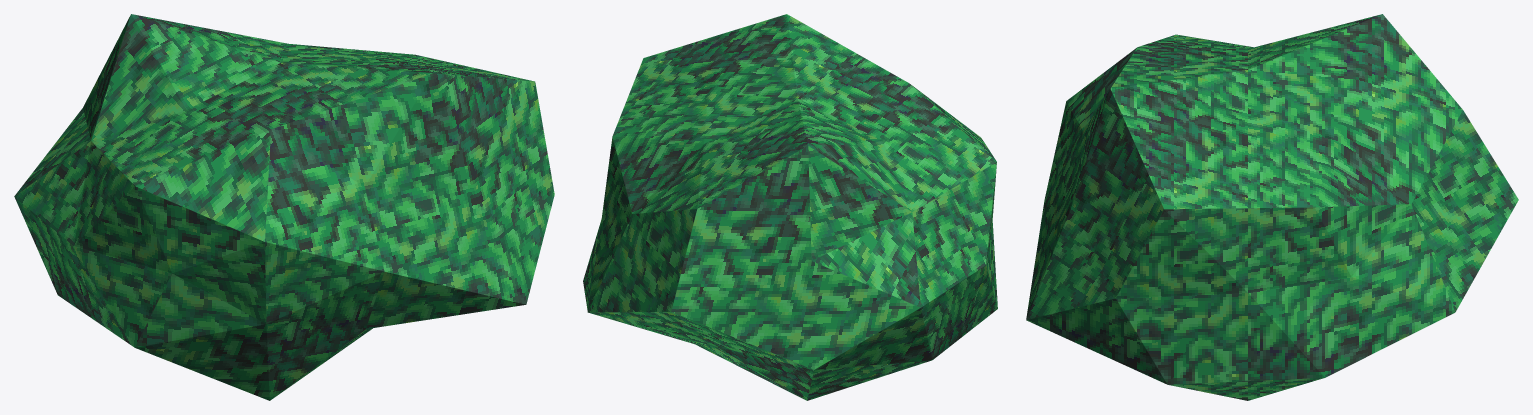
The model's file is bush_a.glb.
The picture shows the model from 3 angles, left to right: view 1: azimuth 30°, elevation 25°; view 2: azimuth 150°, elevation 25°; view 3: azimuth 270°, elevation 25°; orthographic projection. The views are drawn at different scales.
Visible parts, largest first — view 1: bush_a; view 2: bush_a; view 3: bush_a.
Part boxes in pixels (x1,y1,x2,y2): bush_a: (14, 14, 554, 400); bush_a: (583, 14, 997, 400); bush_a: (1026, 14, 1518, 400).
Size of the model in its own units: 1.4 by 1.08 by 1.47.
1 material, 1 textured.
